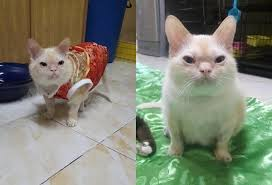cat: (155, 10, 249, 102)
